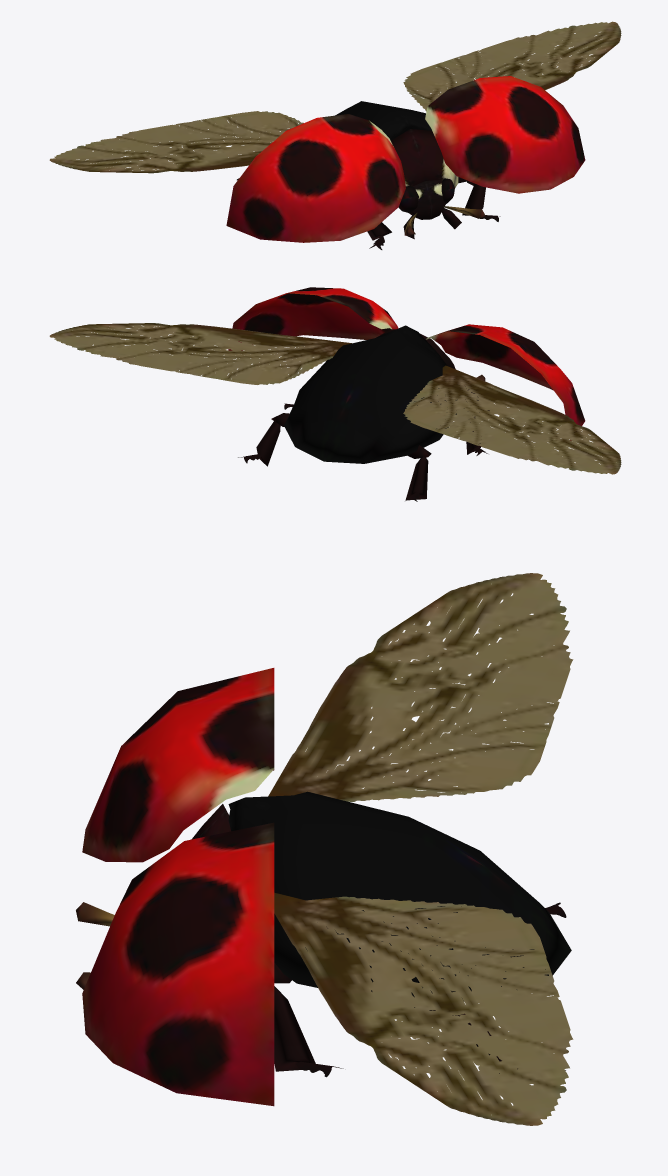
Rendered from ladybug.glb.
The picture shows the model from 3 angles, top to bottom: view 1: azimuth 30°, elevation 25°; view 2: azimuth 150°, elevation 25°; view 3: azimuth 270°, elevation 25°; orthographic projection. The views are drawn at different scales.
Size of the model in its own units: 4.35 by 0.7993 by 1.52.
Materials: 2 (2 with a texture image).
